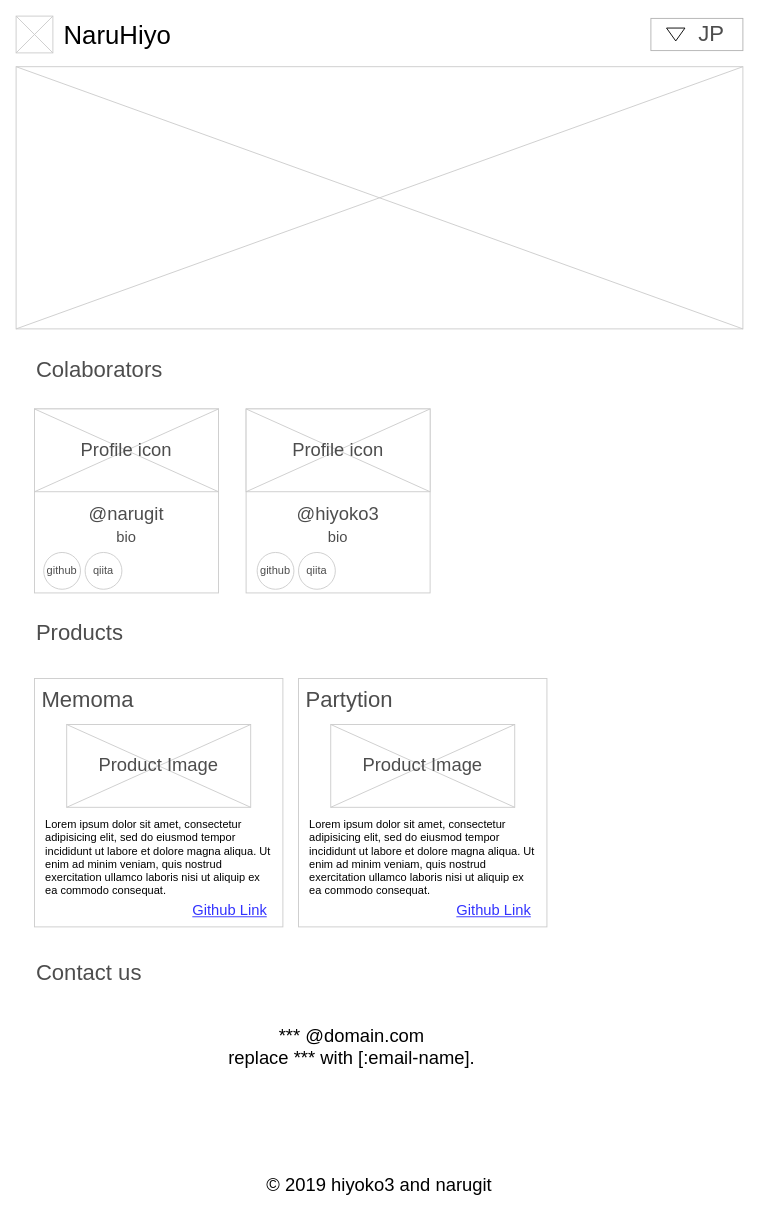
Some shapes in this 759 by 1214 pixel diagram are drawn without their labels. Each missing label, with the centre of its shape:
Brand Logo: (x=34, y=34)
NaruHiyo project (BG: Top Picture): (x=379, y=197)
